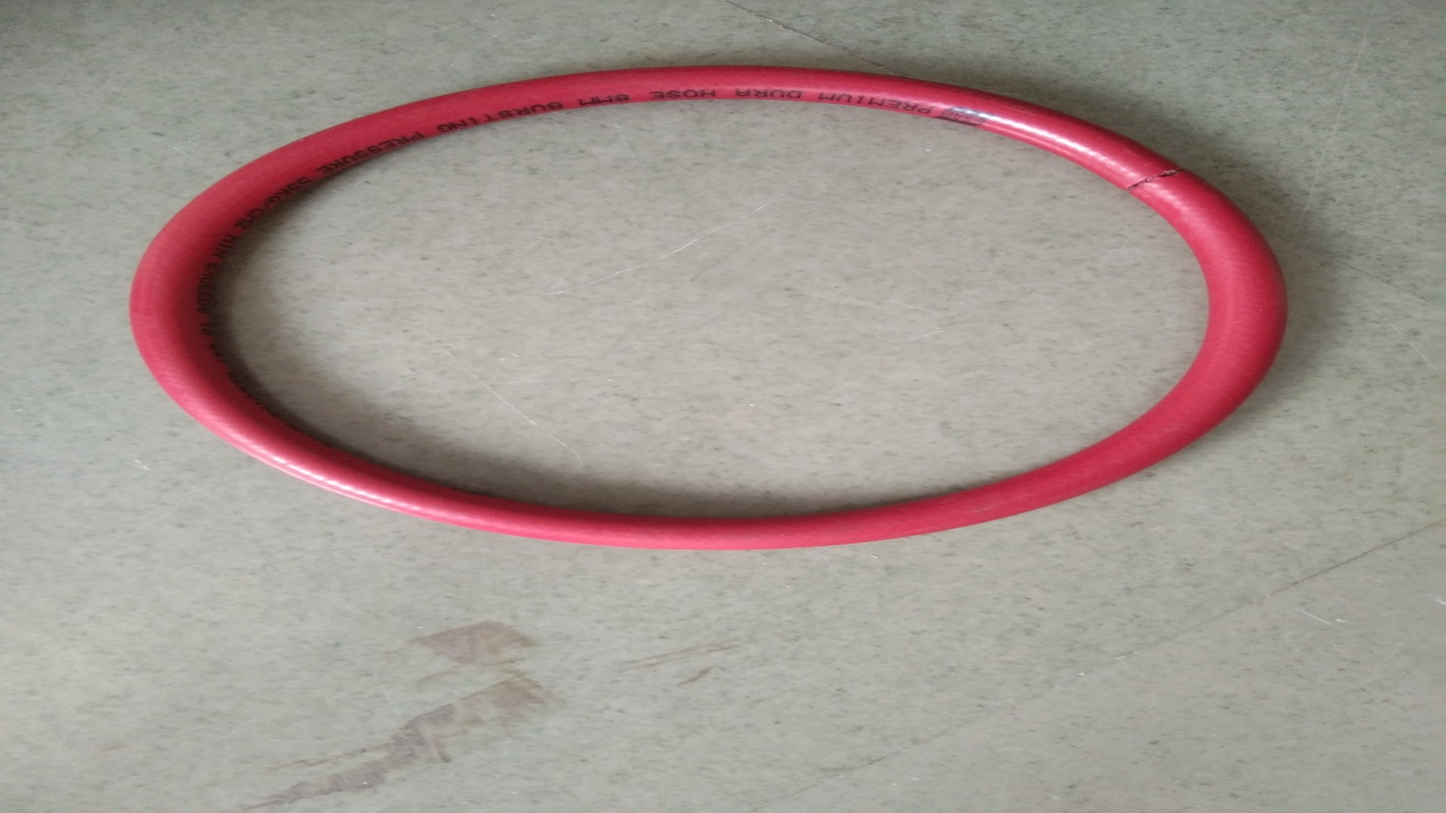Red ring: (133, 66, 1286, 550)
